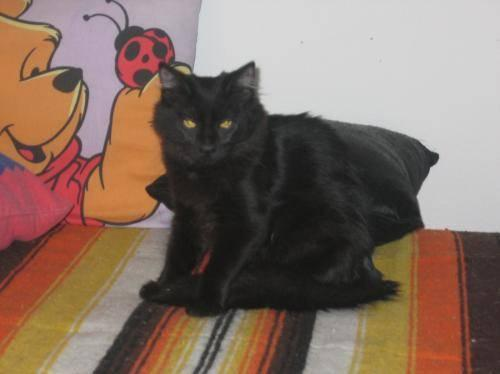cat: (141, 62, 436, 313)
